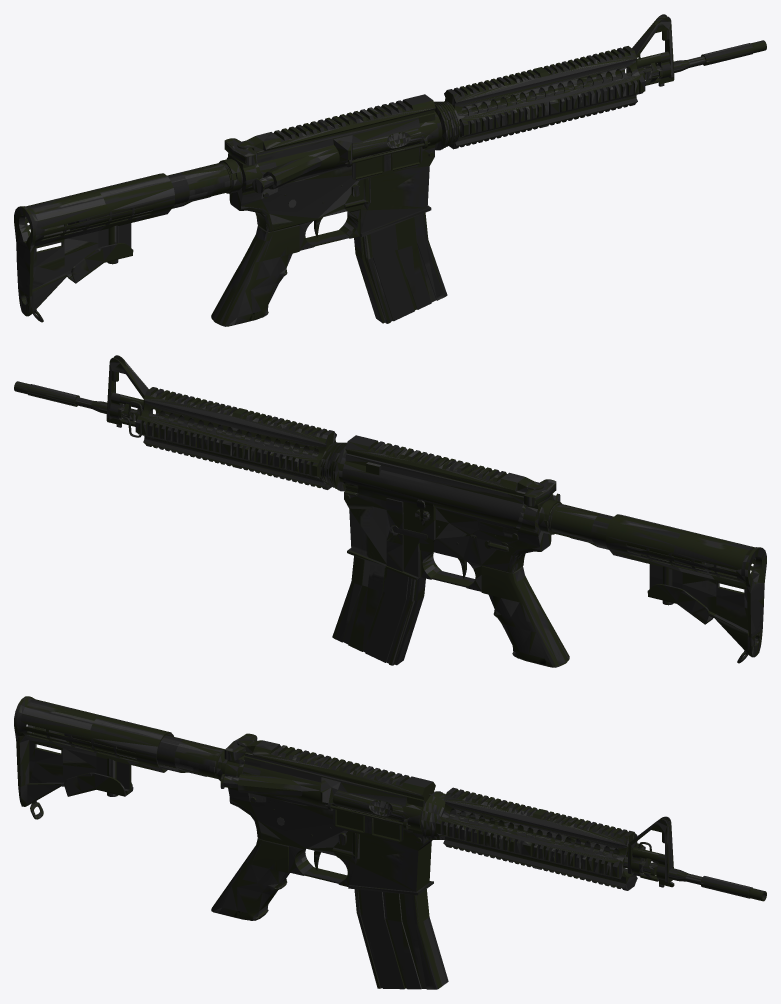
3 renders of one model, top to bottom at view 1: azimuth 30°, elevation 25°; view 2: azimuth 150°, elevation 25°; view 3: azimuth 330°, elevation 25°, orthographic.
Visible parts, largest first — view 1: M4A1_LowPoly; view 2: M4A1_LowPoly; view 3: M4A1_LowPoly.
Boxes of the visible parts, left/top/right/bottom form: M4A1_LowPoly: left=14, top=14, right=766, bottom=326; M4A1_LowPoly: left=14, top=355, right=766, bottom=667; M4A1_LowPoly: left=14, top=696, right=766, bottom=989.
Bounding box in the file's own units: 1.13 × 0.3434 × 0.0936.
1 material, 1 textured.
